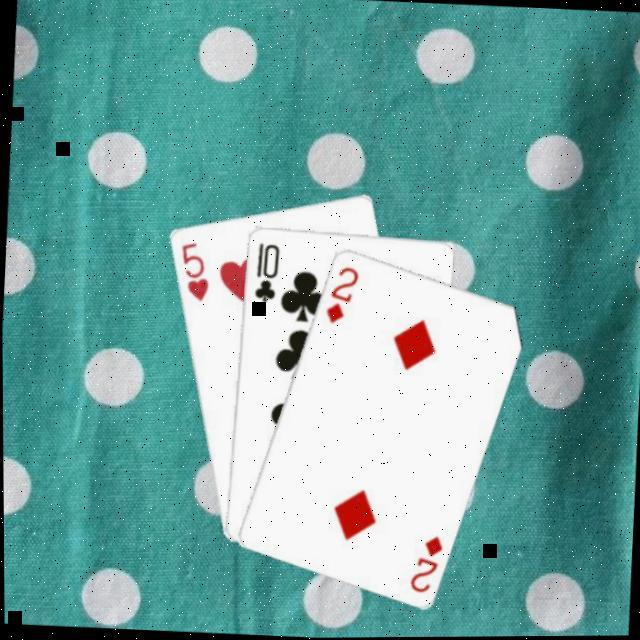10C: (250, 240, 282, 305)
2D: (405, 532, 446, 598), (322, 264, 363, 328)
5H: (176, 239, 213, 305)
